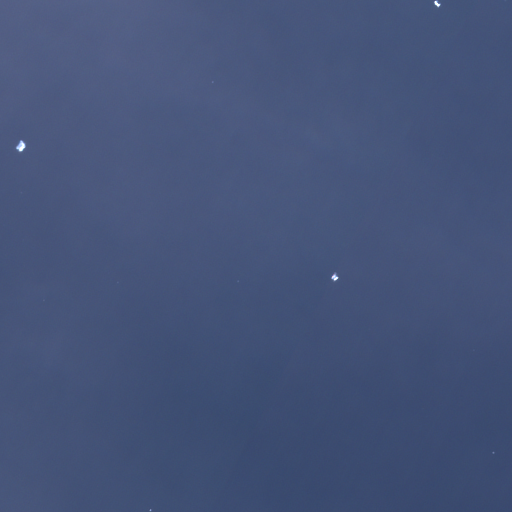Iceberg: (16, 140, 25, 151), (331, 272, 338, 280), (434, 0, 440, 7), (149, 509, 151, 511), (492, 452, 494, 453)
